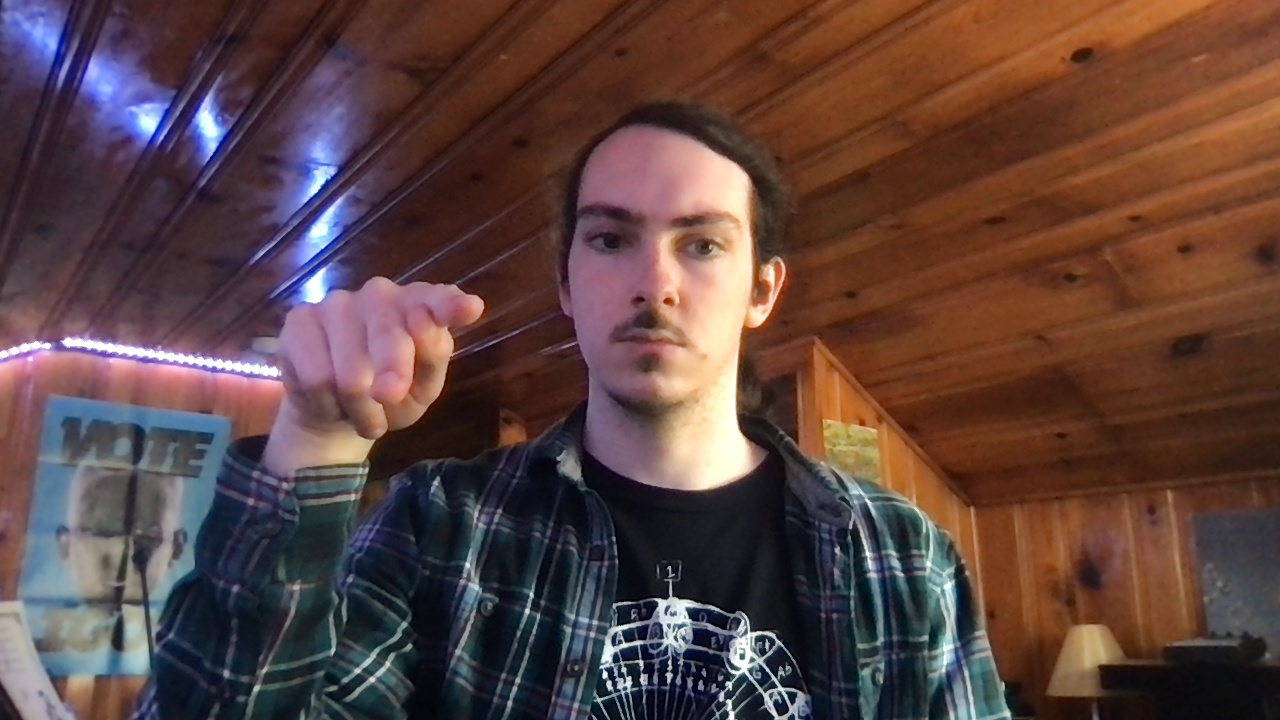p: (274, 275, 486, 441)
